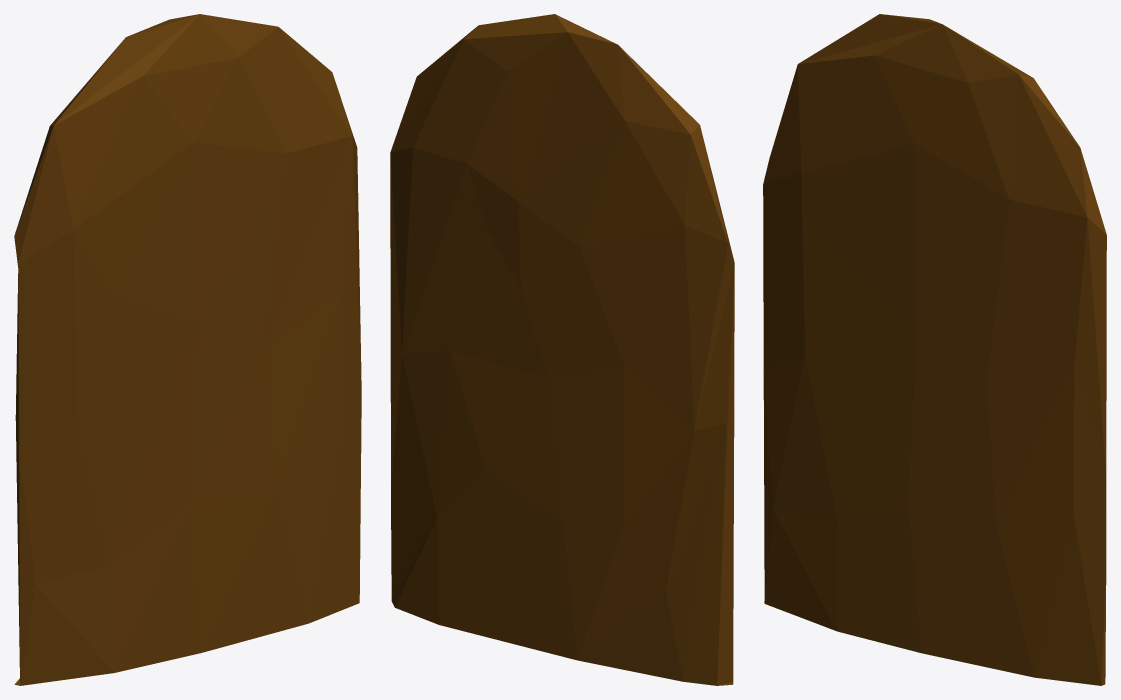
File: Wooden Curved Top.fbx
3 views of the same model, side by side, from view 1: azimuth 30°, elevation 25°; view 2: azimuth 150°, elevation 25°; view 3: azimuth 330°, elevation 25° (orthographic).
Visible parts, largest first — view 1: Door; view 2: Door; view 3: Door.
Part boxes in pixels (bbox=[...]): Door: bbox=[14, 14, 361, 685]; Door: bbox=[390, 14, 734, 685]; Door: bbox=[763, 14, 1106, 685].
Size of the model in its own units: 282 by 490 by 41.42.
